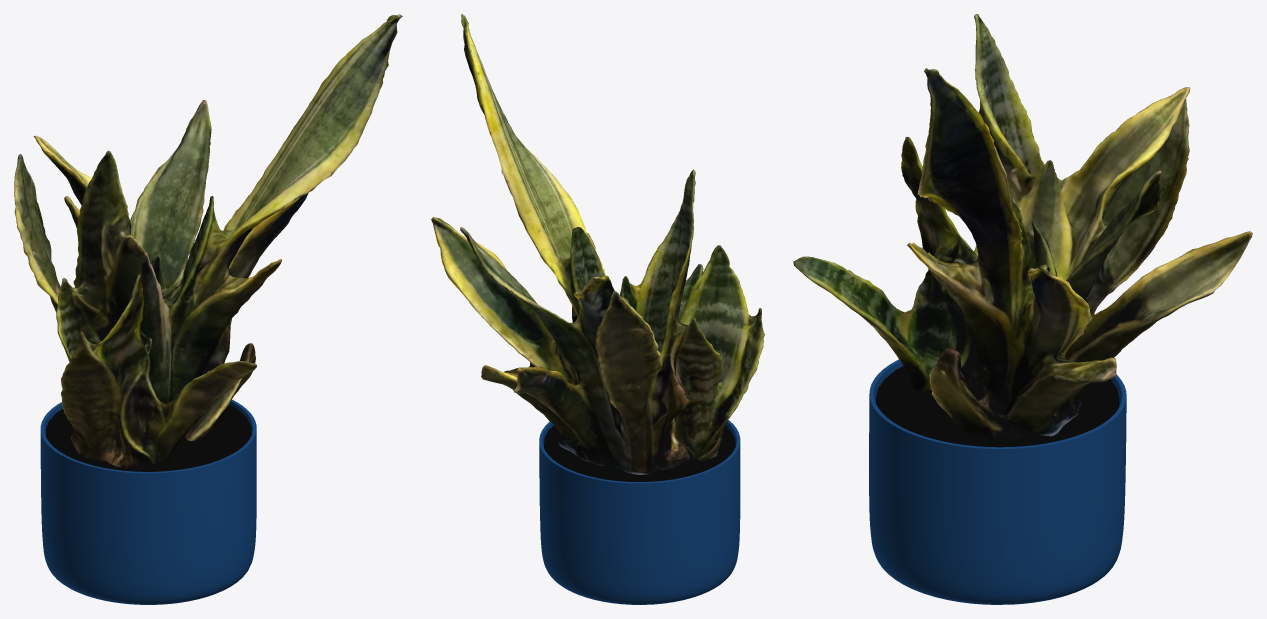
File: snake_plant.glb
3 views of the same model, side by side, from view 1: azimuth 30°, elevation 25°; view 2: azimuth 150°, elevation 25°; view 3: azimuth 270°, elevation 25° (orthographic). The views are drawn at different scales.
Visible parts, largest first — view 1: Object_2, Object_3, Object_4; view 2: Object_2, Object_3, Object_4; view 3: Object_2, Object_3, Object_4.
Part boxes in pixels (box(x1,y1,x2,y2)): Object_2: box(14, 14, 402, 468); Object_3: box(40, 399, 256, 604); Object_4: box(46, 404, 251, 471); Object_2: box(431, 14, 764, 474); Object_3: box(539, 420, 740, 604); Object_4: box(544, 425, 735, 481); Object_2: box(793, 14, 1252, 440); Object_3: box(869, 359, 1126, 604); Object_4: box(876, 366, 1119, 447).
Bounding box in the file's own units: 3.36 × 5.06 × 3.41.
3 materials, 1 textured.
